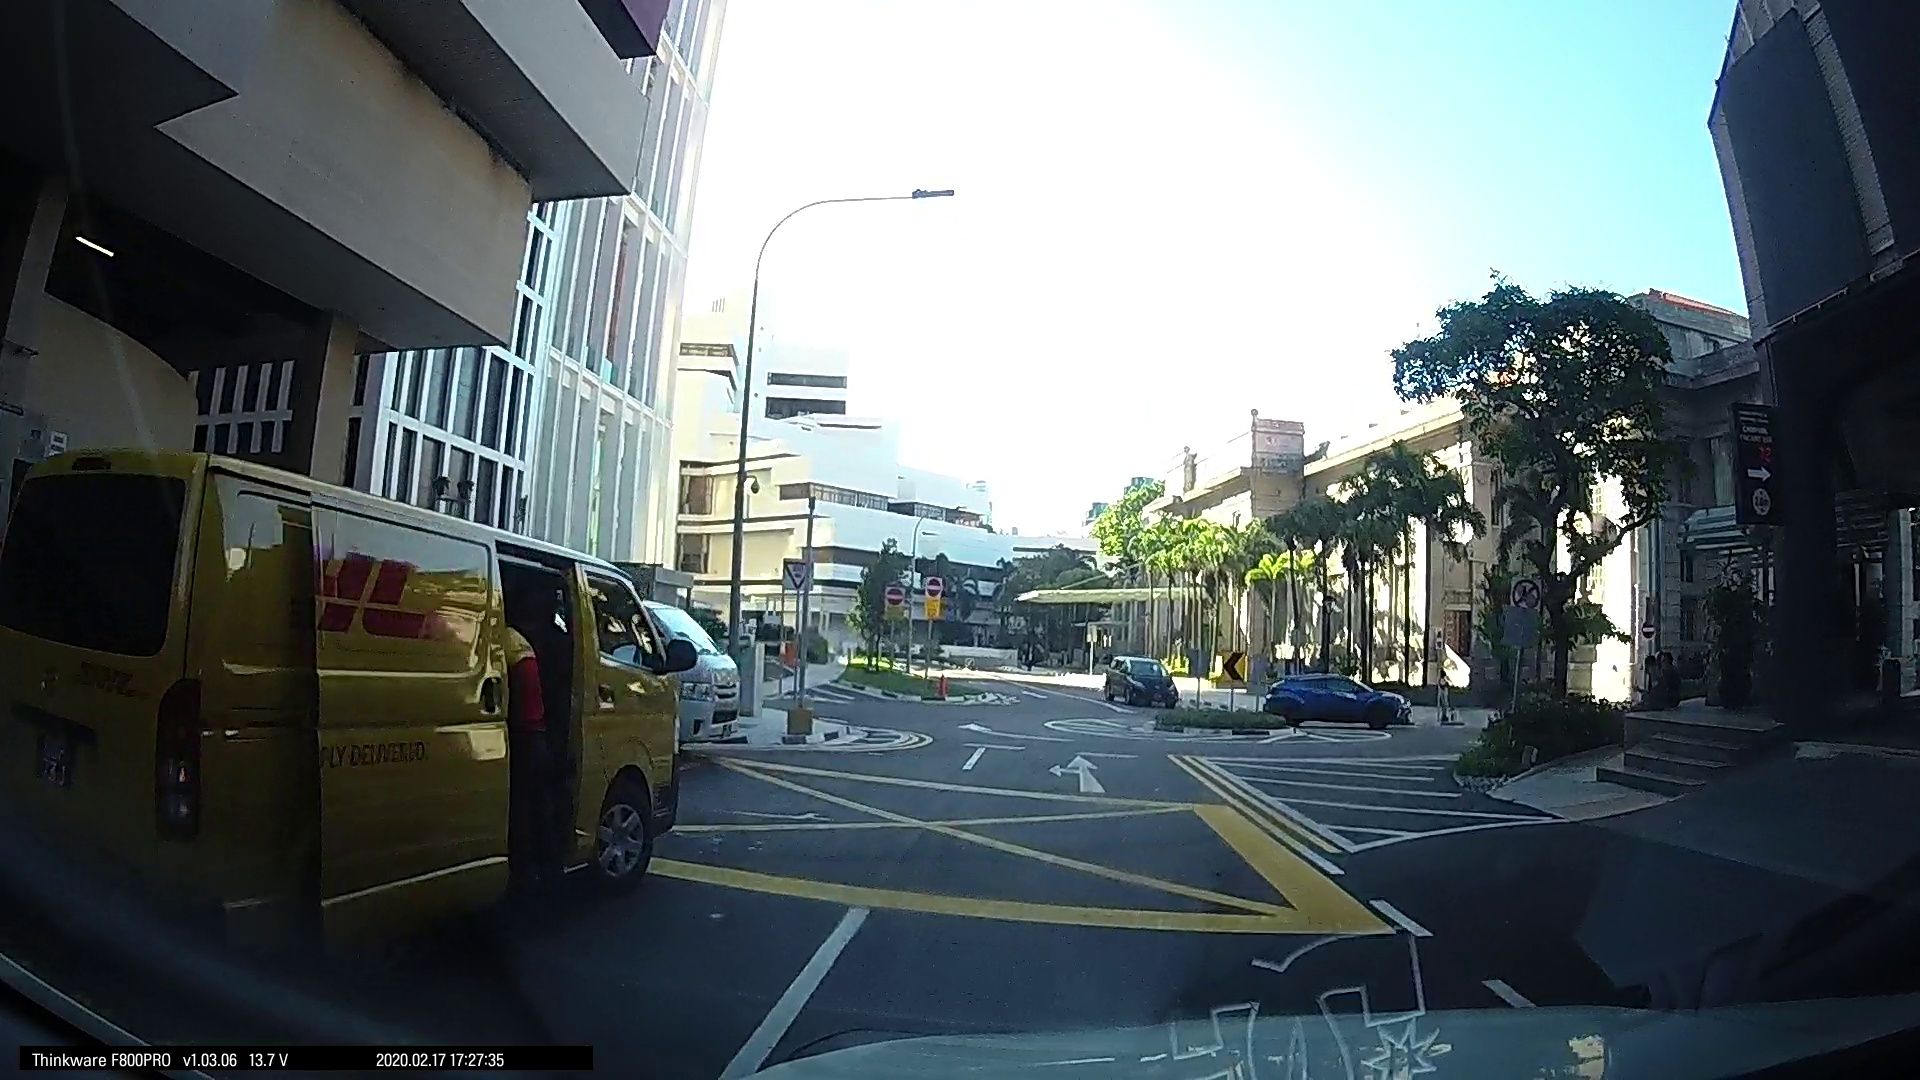Light Vehicle: (8, 458, 694, 967), (644, 588, 752, 749), (1262, 666, 1406, 729), (1098, 646, 1179, 705)
